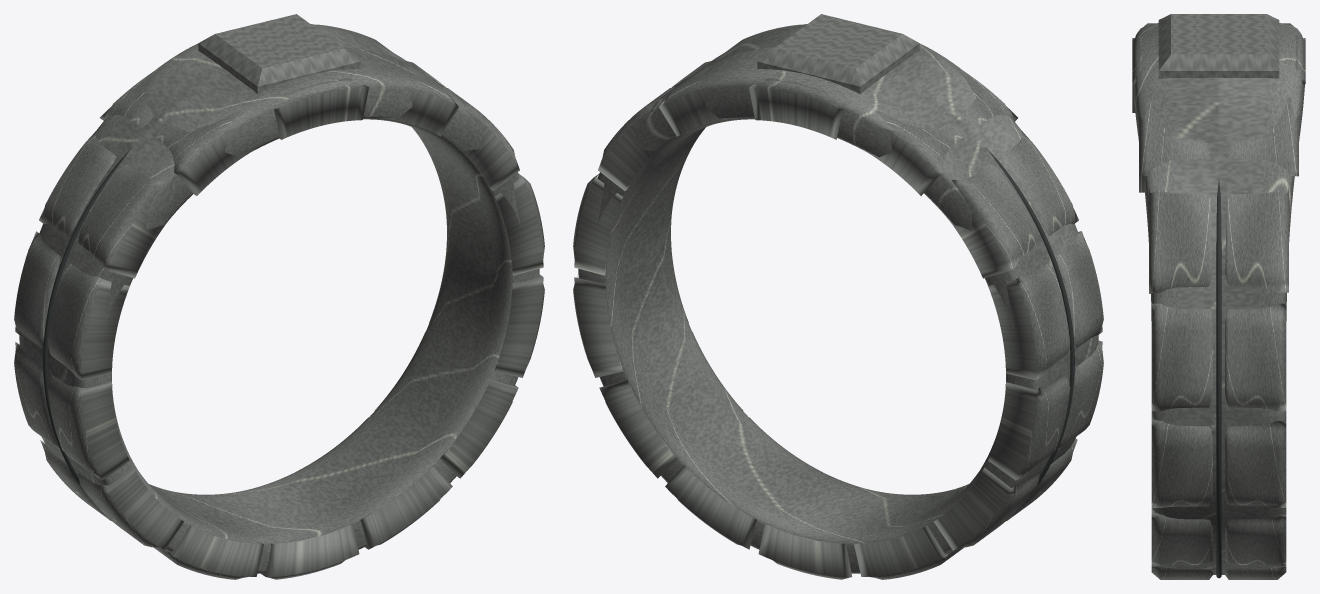
File: stone_ring.glb
3 renders of one model, left to right at view 1: azimuth 30°, elevation 25°; view 2: azimuth 150°, elevation 25°; view 3: azimuth 270°, elevation 25°, orthographic.
Parts seen in each view (by area): view 1: Carved grey stone with quartz veins, Dark stone carving grooves; view 2: Carved grey stone with quartz veins, Dark stone carving grooves; view 3: Carved grey stone with quartz veins, Dark stone carving grooves.
Boxes of the visible parts, box(x1,y1,x2,y2) form: Carved grey stone with quartz veins: box(14, 14, 544, 579); Dark stone carving grooves: box(43, 77, 443, 493); Carved grey stone with quartz veins: box(573, 14, 1103, 579); Dark stone carving grooves: box(674, 77, 1074, 493); Carved grey stone with quartz veins: box(1132, 14, 1305, 579); Dark stone carving grooves: box(1216, 179, 1221, 578).
Size of the model in its own units: 0.0243 by 0.0252 by 0.0076.
2 materials, 1 textured.
